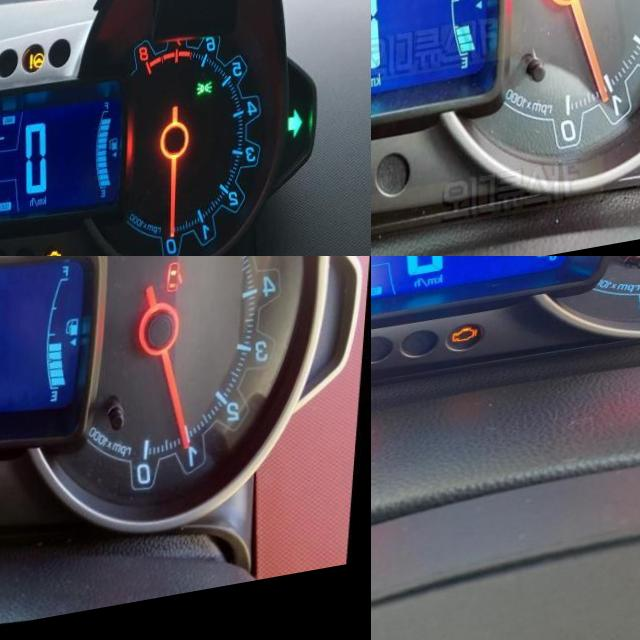Doors: (167, 275, 187, 309)
SideLamp: (197, 93, 214, 111)
